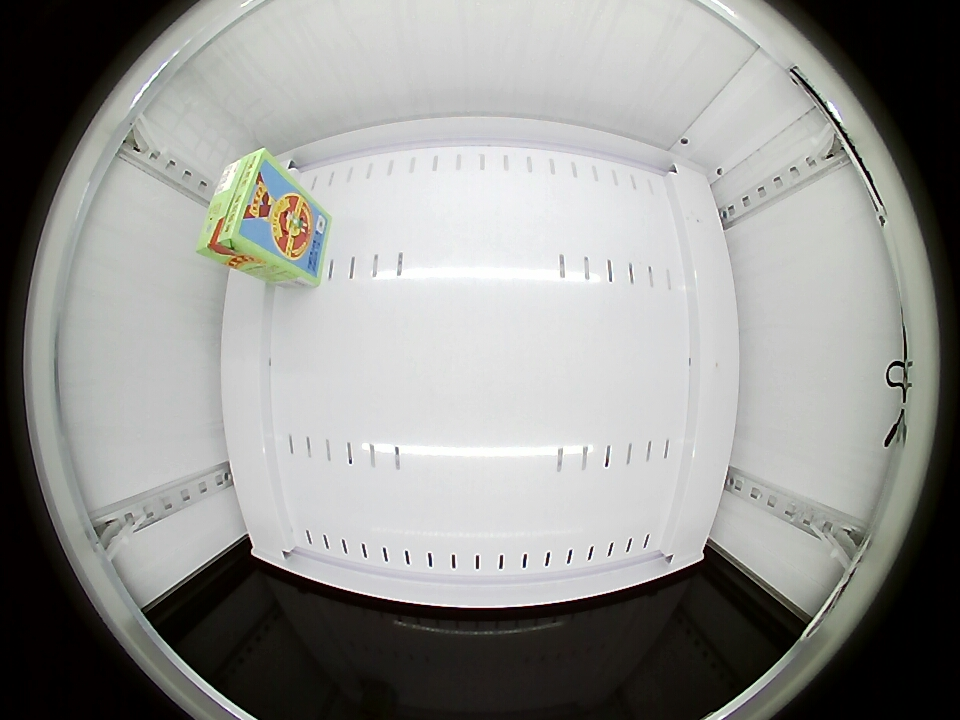wanglaoji: (198, 148, 287, 265)
